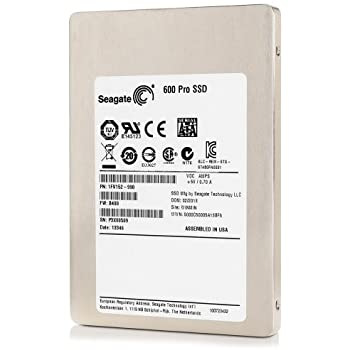seagate-hdd-240gb: (69, 6, 283, 333)
